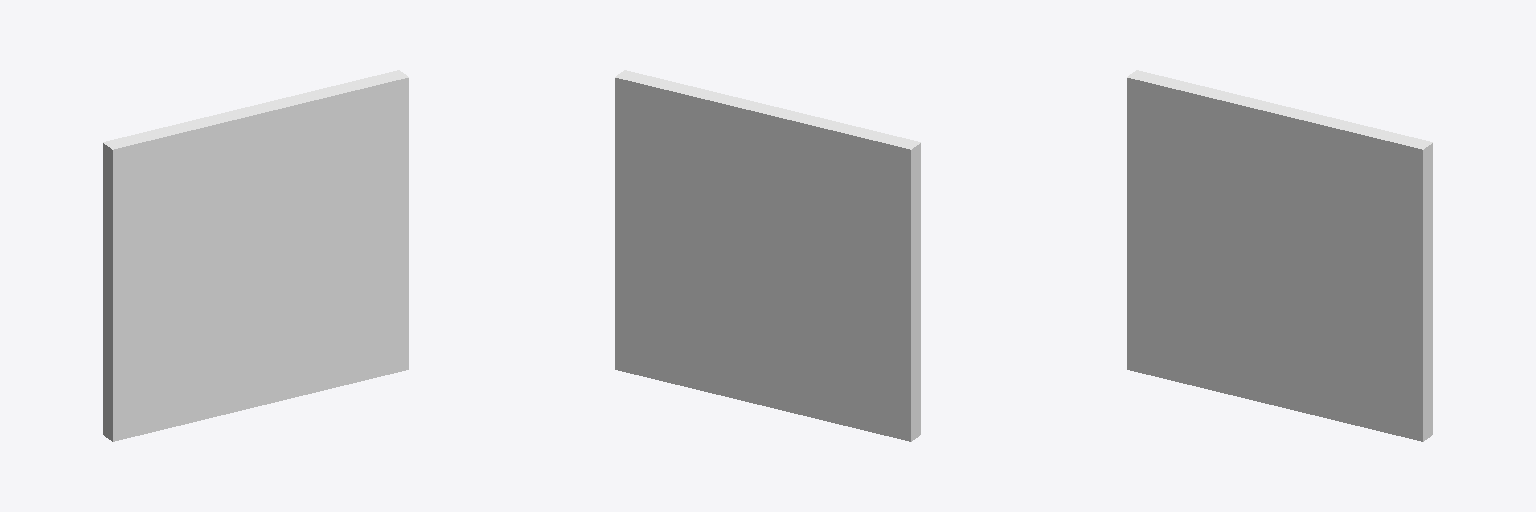
The model's file is BotonReplay.obj.
3 views of the same model, side by side, from view 1: azimuth 30°, elevation 25°; view 2: azimuth 150°, elevation 25°; view 3: azimuth 330°, elevation 25° (orthographic).
Visible parts, largest first — view 1: object 1; view 2: object 1; view 3: object 1.
Part boxes in pixels (x1,y1,x2,y2): object 1: (103,70,408,441); object 1: (615,70,920,441); object 1: (1127,70,1432,441).
Bounding box in the file's own units: 1.7 × 1.6 × 0.1.